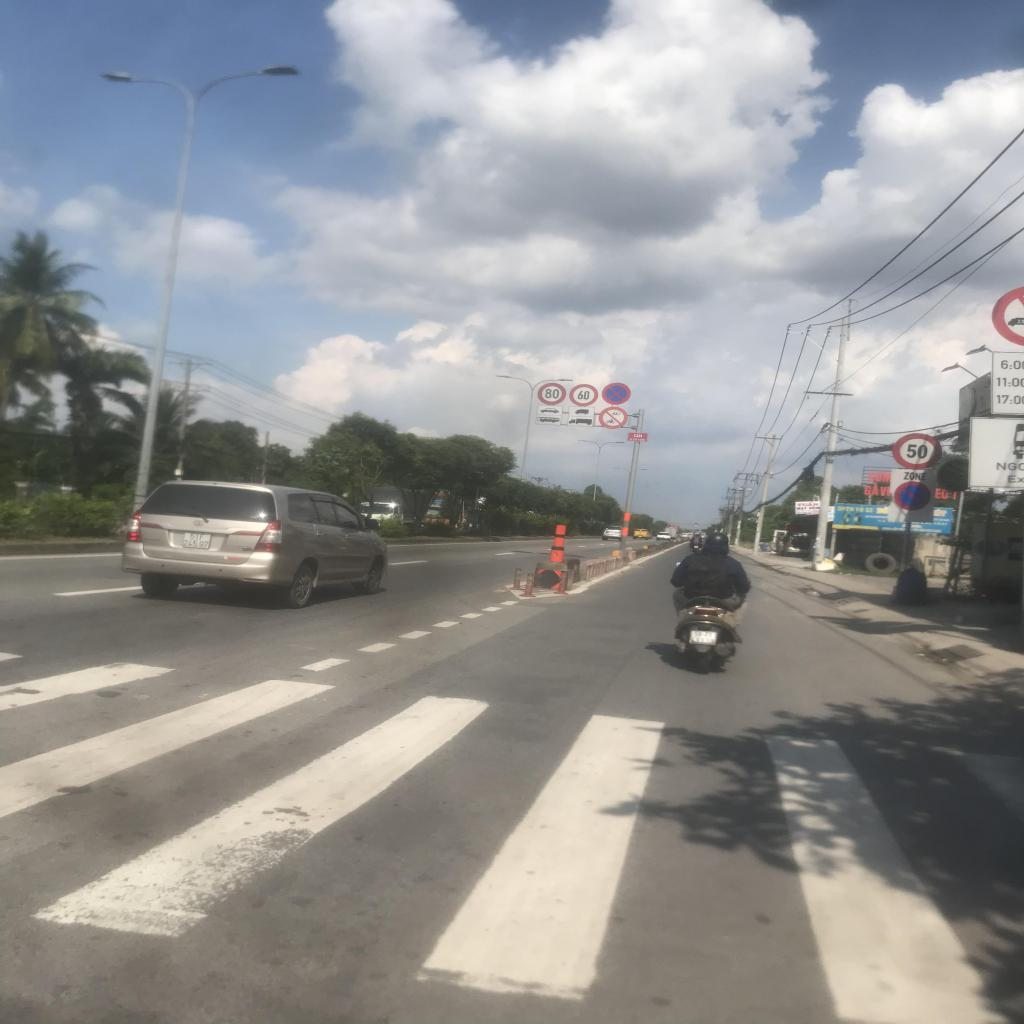cam_do_xe: (894, 482, 930, 510)
cam_dung_xe_va_do_xe: (601, 382, 631, 406)
cam_xe_2_banh_va_xe_3_banh_co_dong_co: (598, 407, 629, 429)
khac: (536, 414, 562, 425), (569, 406, 595, 417), (537, 405, 563, 416), (567, 416, 593, 426)
toc_do_toi_da_50: (892, 433, 942, 469)
toc_do_toi_da_60: (568, 384, 598, 407)
toc_do_toi_da_80: (537, 383, 566, 404)
